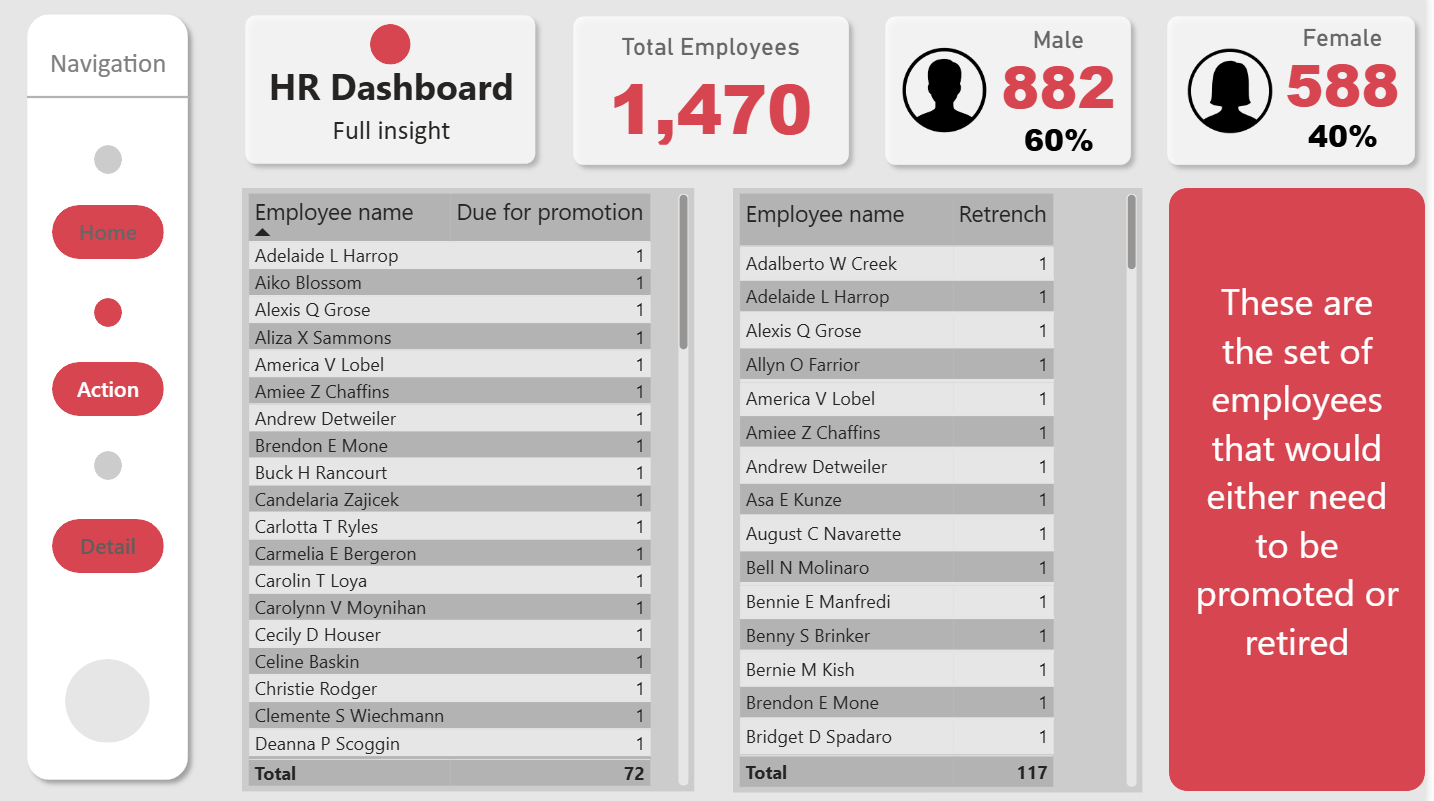

This screenshot's page, from the dashboard's own definition file:
{"tool":"powerbi","page":{"name":"Action","canvas":[1280,720],"ordinal":1},"visuals":[{"type":"shape","box":[225.4,9.7,275.3,149.8],"z":1000},{"type":"shape","box":[516.1,10.6,262.5,149.9],"z":2000},{"type":"shape","box":[792.7,10.6,235.9,149.9],"z":3000},{"type":"shape","box":[1042.8,10.6,237.6,149.9],"z":4000},{"type":"textbox","box":[240,54.5,247.1,59.3],"z":5000},{"type":"textbox","box":[240,100.2,247.1,59.3],"z":6000},{"type":"shape","box":[345,26.3,36,36],"z":7000},{"type":"card","title":"Total Employees","fields":{"Values":["All Measures.Total Emp"]},"box":[538.2,33.7,217.2,104.6],"z":8000},{"type":"card","title":"Male","fields":{"Values":["All Measures.Male"]},"box":[899.1,27.5,112.6,80.7],"z":9000},{"type":"card","title":"Male","fields":{"Values":["All Measures.% male"]},"box":[910.6,68.3,90.4,123.3],"z":10000},{"type":"card","title":"Female","fields":{"Values":["All Measures.Female"]},"box":[1150.9,25.7,112.6,80.7],"z":11000},{"type":"card","title":"Male","fields":{"Values":["All Measures.% female"]},"box":[1162.5,64.7,90.4,123.3],"z":12000},{"type":"image","box":[808.7,41.7,90.4,86.9],"z":13000},{"type":"image","box":[1064,43.4,86.9,85.1],"z":14000},{"type":"tableEx","fields":{"Values":["HR Analytics Data.Emplyee name","All Measures.Due for promotion"]},"box":[231.4,172,400.8,534.7],"z":15000},{"type":"tableEx","fields":{"Values":["HR Analytics Data.Emplyee name","All Measures.retrench"]},"box":[666.8,172,362.7,535.6],"z":16000},{"type":"shape","box":[1053.4,172,227,534.7],"z":17000},{"type":"textbox","box":[1068.5,244.7,196.8,454],"z":18000},{"type":"shape","box":[31.9,8.9,160.5,696.9],"z":18001},{"type":"textbox","box":[55.9,40.8,119.7,39.9],"z":18002},{"type":"shape","box":[40.8,83.3,143.6,16],"z":18003},{"type":"shape","box":[100.2,133.9,24.8,25.7],"z":18004},{"type":"actionButton","title":"Home","box":[63,326.3,99.3,47.9],"z":18005},{"type":"shape","box":[100.2,269.6,24.8,25.7],"z":18006},{"type":"actionButton","title":"Home","box":[63,187.1,99.3,47.9],"z":18007},{"type":"shape","box":[100.2,405.2,24.8,25.7],"z":18008},{"type":"shape","box":[74.5,589.7,75.4,74.5],"z":18009},{"type":"actionButton","title":"Home","box":[63,465.5,99.3,47.9],"z":18010}]}

Visuals, with their boxes in screenshot pixels (x1, y1, x2, y2), scaled from the page's 1280x720 canvas onto the 1434x801 screenshot:
shape: region(253, 11, 561, 177)
shape: region(578, 12, 872, 179)
shape: region(888, 12, 1152, 179)
shape: region(1168, 12, 1433, 179)
textbox: region(269, 61, 546, 127)
textbox: region(269, 111, 546, 177)
shape: region(387, 29, 427, 69)
"Total Employees" card: region(603, 37, 846, 154)
"Male" card: region(1007, 31, 1133, 120)
"Male" card: region(1020, 76, 1121, 213)
"Female" card: region(1289, 29, 1416, 118)
"Male" card: region(1302, 72, 1404, 209)
image: region(906, 46, 1007, 143)
image: region(1192, 48, 1289, 143)
tableEx - HR Analytics Data.Emplyee name x All Measures.Due for promotion: region(259, 191, 708, 786)
tableEx - HR Analytics Data.Emplyee name x All Measures.retrench: region(747, 191, 1153, 787)
shape: region(1180, 191, 1433, 786)
textbox: region(1197, 272, 1418, 777)
shape: region(36, 10, 216, 785)
textbox: region(63, 45, 197, 90)
shape: region(46, 93, 207, 110)
shape: region(112, 149, 140, 178)
"Home" actionButton: region(71, 363, 182, 416)
shape: region(112, 300, 140, 329)
"Home" actionButton: region(71, 208, 182, 261)
shape: region(112, 451, 140, 479)
shape: region(83, 656, 168, 739)
"Home" actionButton: region(71, 518, 182, 571)
